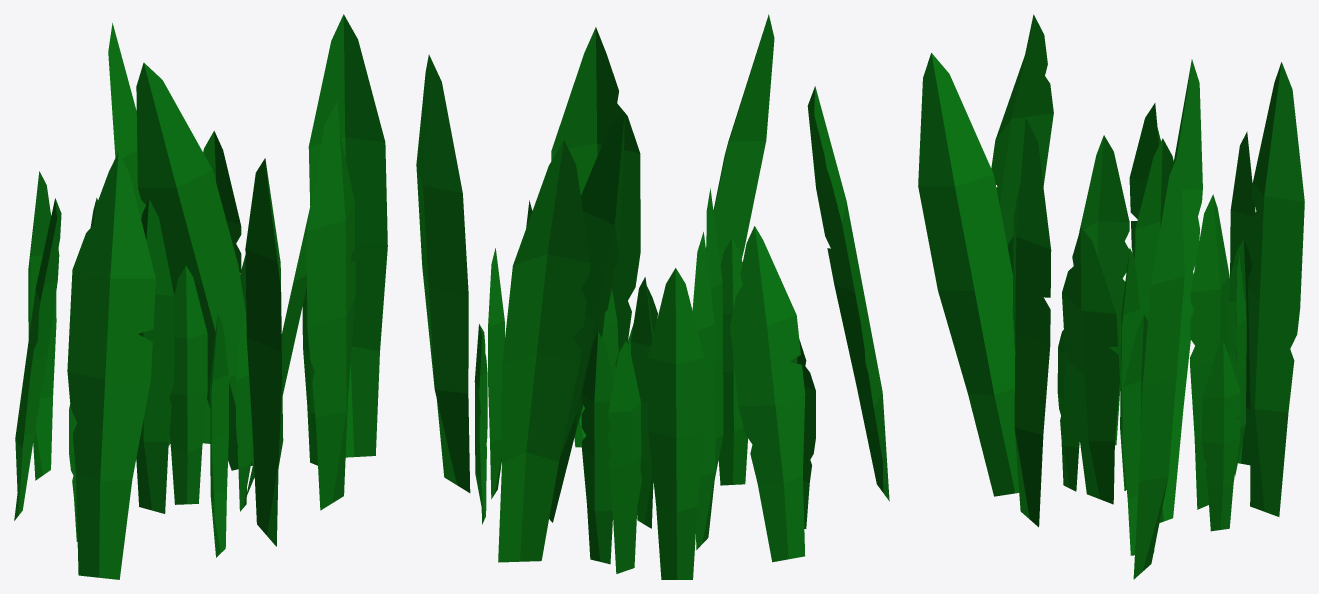
File: LowPolyGrassTest1.fbx
The picture shows the model from 3 angles, left to right: view 1: azimuth 30°, elevation 25°; view 2: azimuth 150°, elevation 25°; view 3: azimuth 270°, elevation 25°; orthographic projection. The views are drawn at different scales.
Visible parts, largest first — view 1: Plane.011; view 2: Plane.011; view 3: Plane.011.
Part boxes in pixels (x1=…): Plane.011: x1=14, y1=14, x2=387, y2=579; Plane.011: x1=416, y1=14, x2=889, y2=579; Plane.011: x1=918, y1=14, x2=1304, y2=579.
Size of the model in its own units: 121 by 130 by 106.
